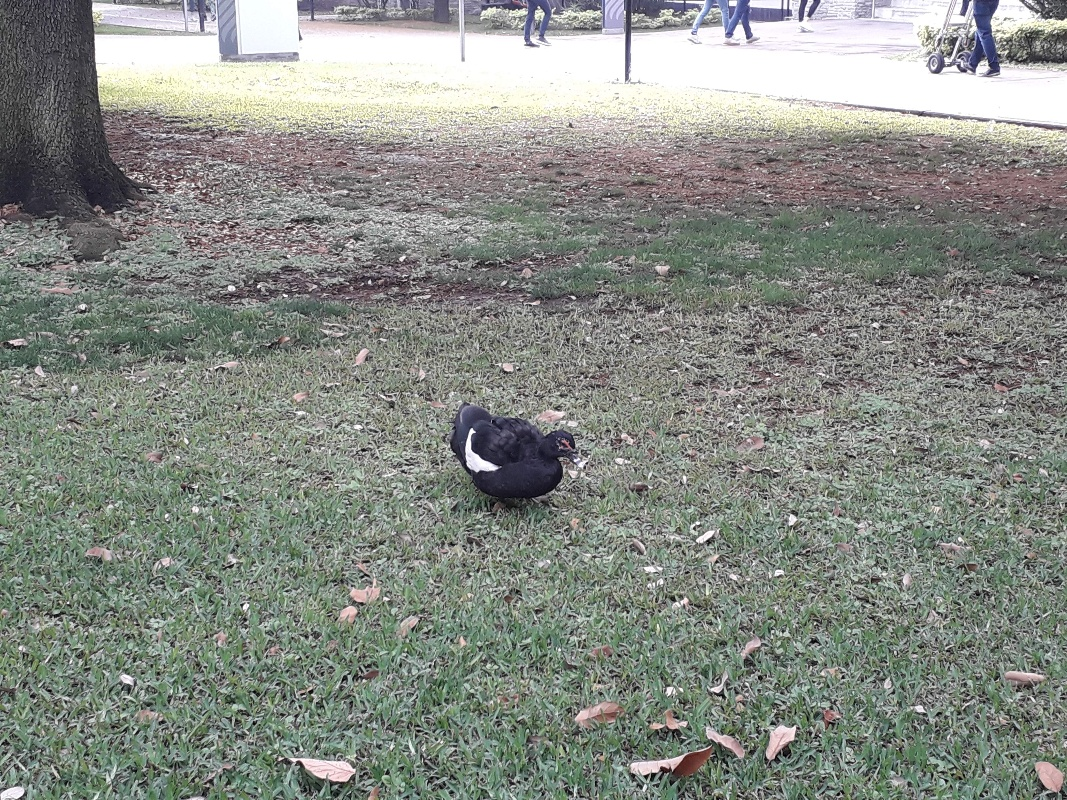pato: (452, 401, 573, 516)
